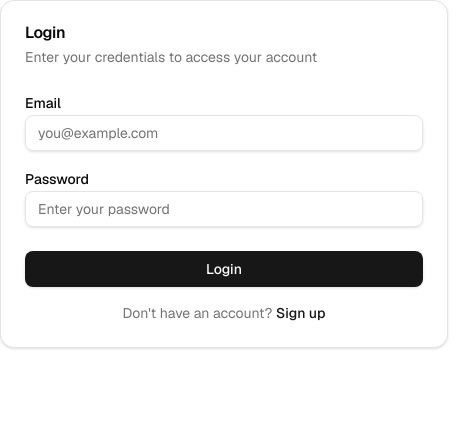
Test: LoginForm › shows validation errors for empty fields
Click the button "Login" at (224,269), box x1=25 y1=251 x2=423 y2=287
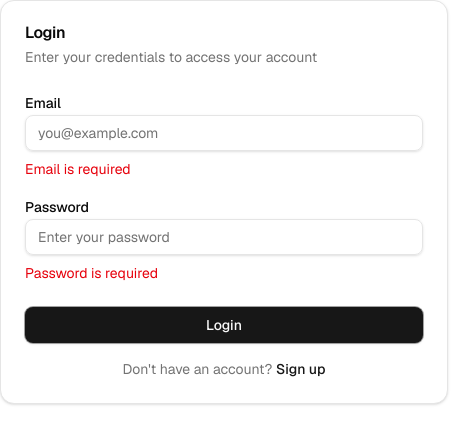
Check: the text "Email is required" is shown, box x1=25 y1=160 x2=131 y2=178
Check: the text "Password is required" is shown, box x1=25 y1=264 x2=158 y2=282
